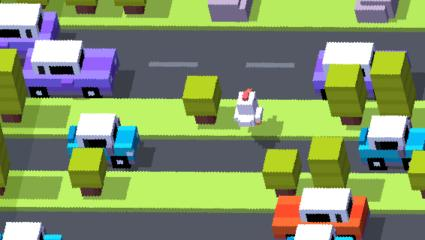hen: (232, 89, 263, 126)
obstacle: (26, 40, 121, 97), (68, 115, 140, 171), (319, 42, 380, 98), (301, 188, 369, 237), (370, 51, 413, 118), (0, 4, 60, 49), (324, 65, 366, 127), (359, 116, 404, 165), (68, 113, 116, 158), (307, 137, 347, 188), (182, 76, 222, 125), (0, 48, 26, 123), (70, 147, 107, 196), (264, 148, 298, 194), (274, 196, 300, 240), (354, 0, 403, 23), (0, 222, 62, 240), (208, 0, 257, 22), (298, 226, 359, 240), (408, 151, 425, 199), (112, 0, 154, 14), (0, 127, 8, 191), (68, 0, 96, 14)
